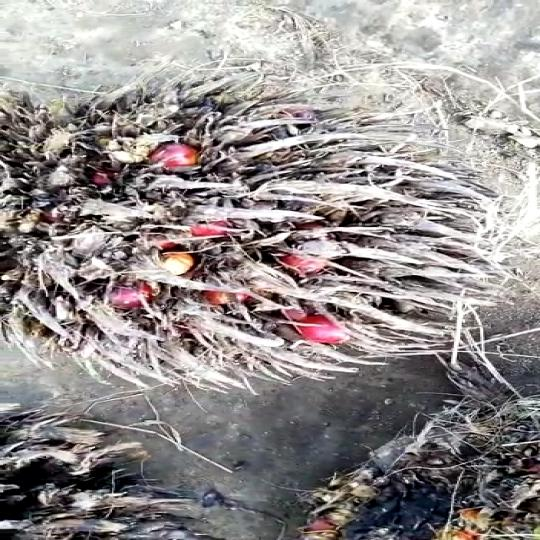terlalu masak: (0, 78, 499, 394)
